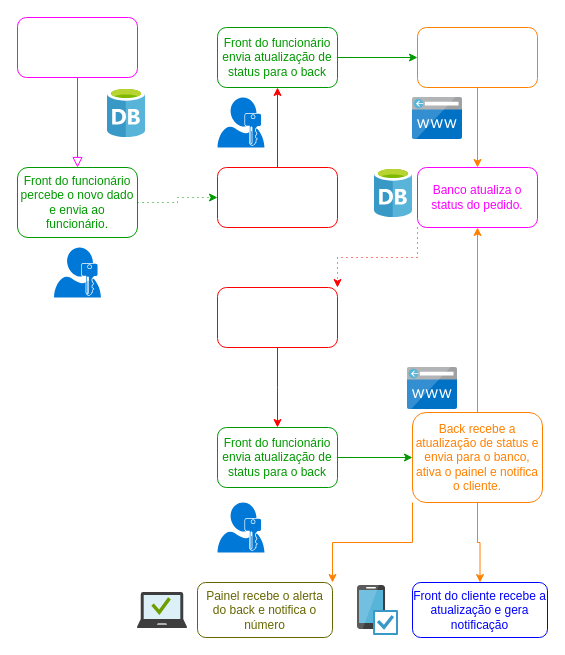
The diagram is 565 pixels wide and 655 high, and some of its shapes have lost their labels. The shapes that lost their labels are listed below. From the top down, each one's centre as x and y in pixels, then its label:
At point (77, 47): "Banco tem um dado novo na tabela de pedidos".
At point (477, 57): "Back recebe a atualização de status e envia para o banco".
At point (277, 197): "Quando o pedido for iniciado o status deverá ser alterado".
At point (277, 317): "Quando o pedido for finalizado o status deverá ser alterado".
